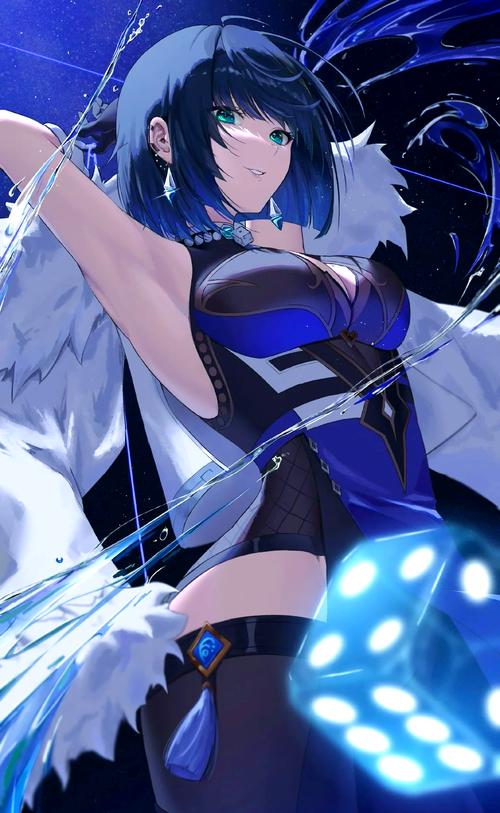夜兰: (1, 23, 441, 813)
